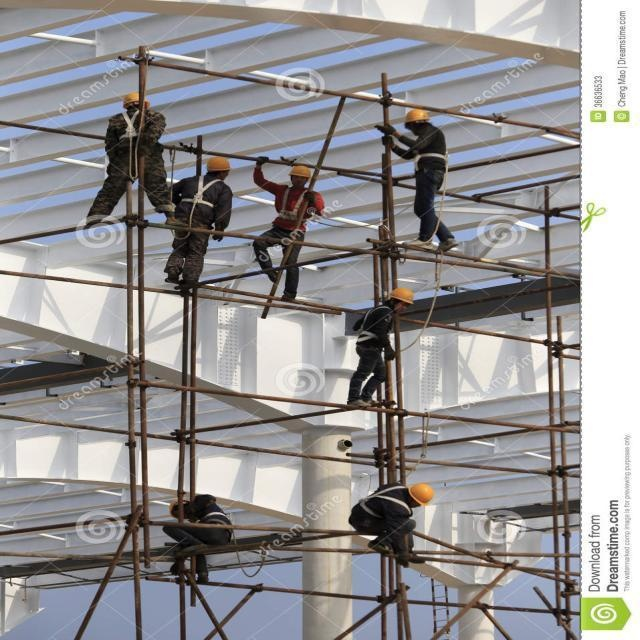Arnes_seguridad: (354, 482, 412, 519), (411, 125, 452, 173), (177, 171, 228, 209), (354, 302, 396, 344), (275, 184, 310, 220), (116, 104, 148, 140)
